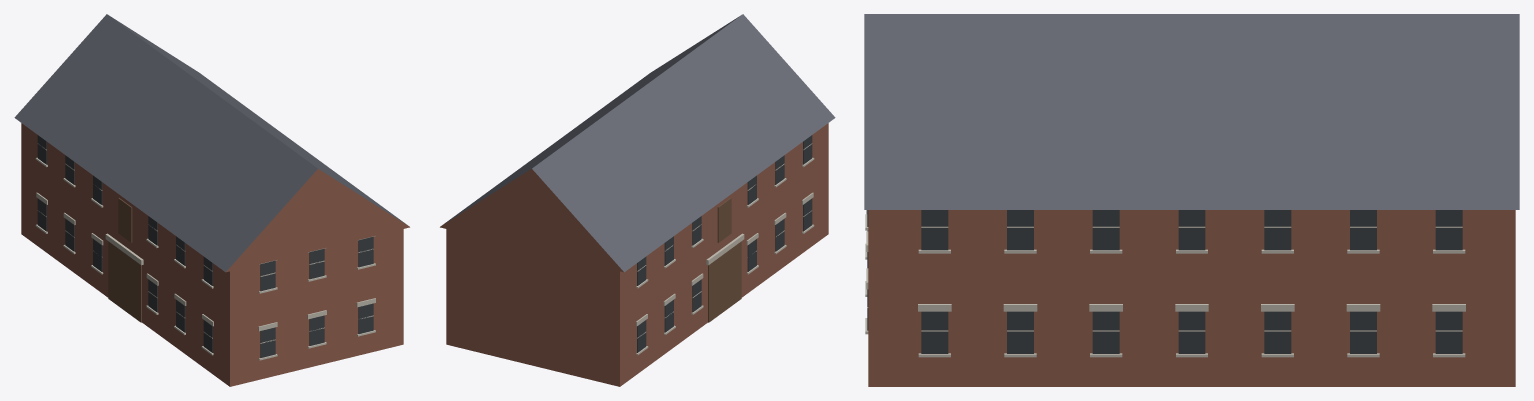
Rendered from glessner_lee_house_1700_prairie_coach_house__draft_1904.glb.
The picture shows the model from 3 angles, left to right: view 1: azimuth 30°, elevation 25°; view 2: azimuth 150°, elevation 25°; view 3: azimuth 270°, elevation 25°; orthographic projection. The views are drawn at different scales.
Parts seen in each view (by area): view 1: glessner_lee_house_1700_prairie_coach_house__draft_1904; view 2: glessner_lee_house_1700_prairie_coach_house__draft_1904; view 3: glessner_lee_house_1700_prairie_coach_house__draft_1904.
Boxes of the visible parts, bbox=[...] form: glessner_lee_house_1700_prairie_coach_house__draft_1904: bbox=[14, 14, 409, 386]; glessner_lee_house_1700_prairie_coach_house__draft_1904: bbox=[440, 14, 835, 386]; glessner_lee_house_1700_prairie_coach_house__draft_1904: bbox=[864, 14, 1519, 386].
Bounding box in the file's own units: 9.85 × 10.08 × 19.49.
